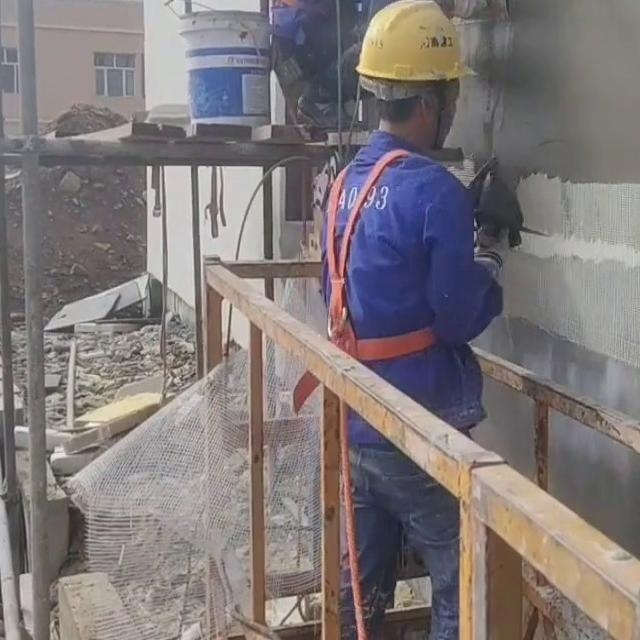Arnes_seguridad: (318, 143, 463, 365)
